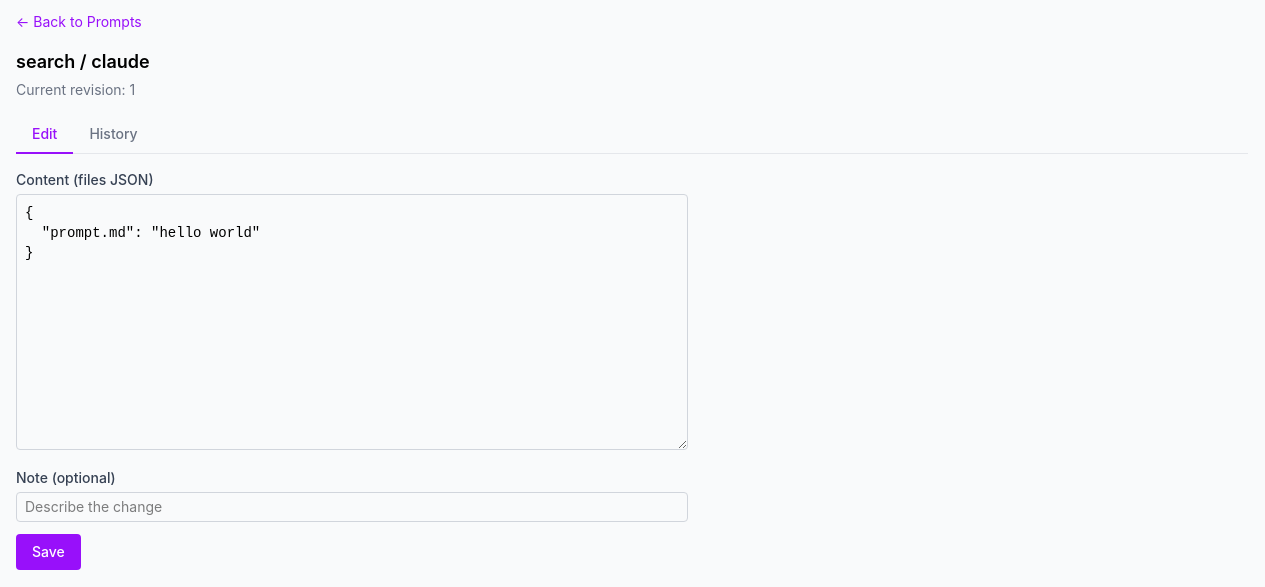
Test case: PromptDetail - History tab › loads and renders history list newest first when History tab is clicked
Click the button "History" at (114,135), box [73,116,154,154]
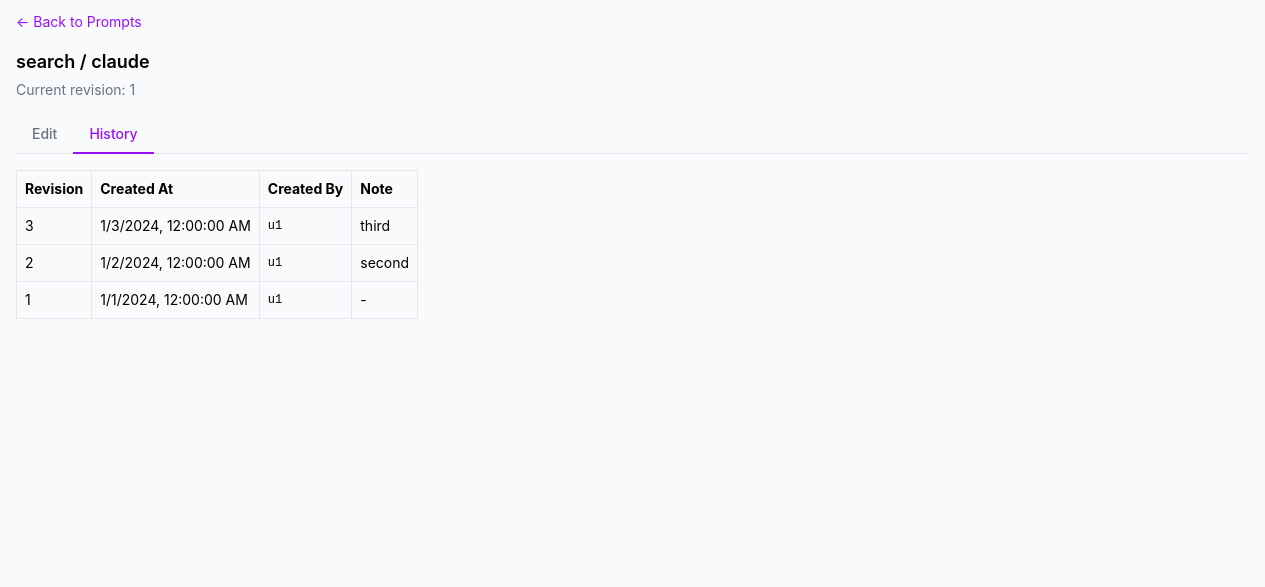
expect the text "3" is shown: met, box [16,208,92,244]
expect the text "2" is shown: met, box [16,244,92,282]
expect the text "1" is shown: met, box [16,282,92,318]
